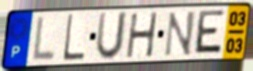E: (191, 8, 226, 56)
H: (126, 10, 160, 60)
L: (30, 15, 58, 64), (61, 13, 86, 64)
N: (162, 10, 197, 59)
U: (93, 10, 130, 63)
